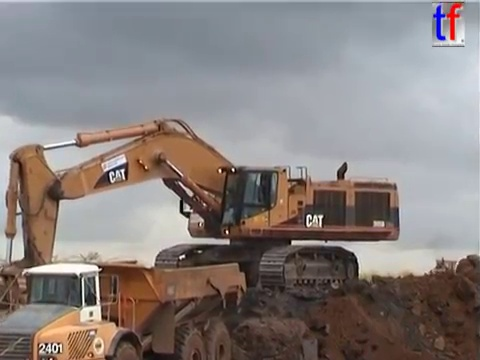excavator: (1, 115, 404, 324)
motor grader: (425, 256, 460, 281)
truck: (1, 256, 249, 360)
